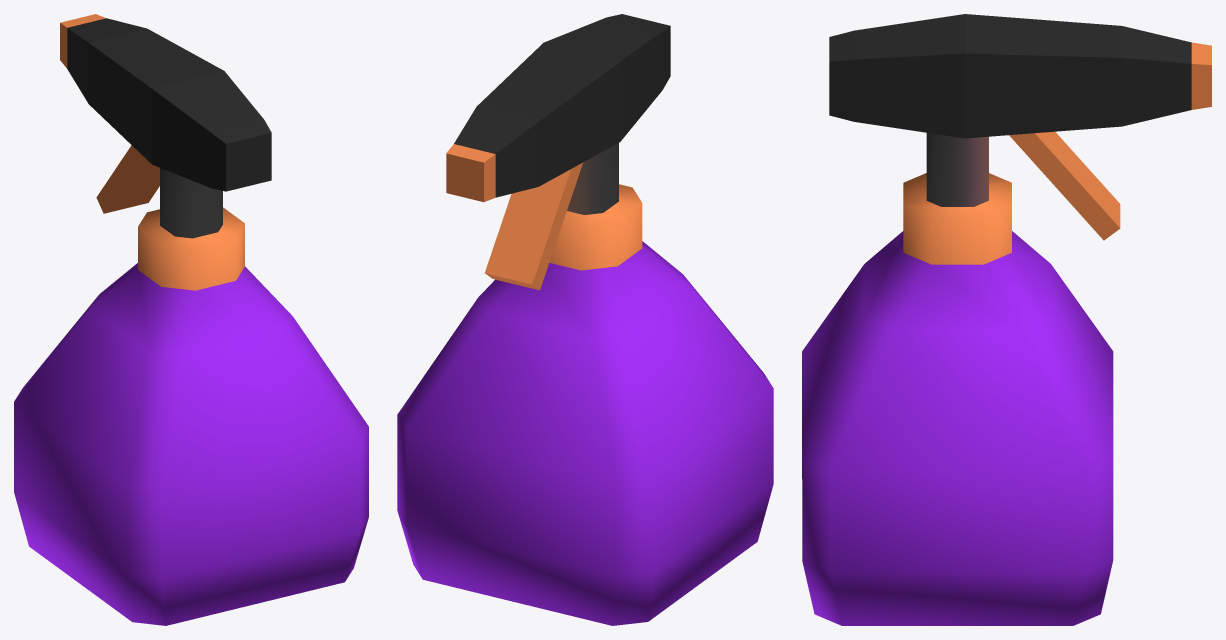
File: sprayBotle.fbx
3 renders of one model, left to right at view 1: azimuth 30°, elevation 25°; view 2: azimuth 150°, elevation 25°; view 3: azimuth 270°, elevation 25°, orthographic. The views are drawn at different scales.
Parts seen in each view (by area): view 1: Botle; view 2: Botle; view 3: Botle.
Part boxes in pixels (bbox=[...]): Botle: bbox=[14, 14, 368, 625]; Botle: bbox=[397, 14, 773, 625]; Botle: bbox=[802, 14, 1211, 625].
Bounding box in the file's own units: 128 × 241 × 168.
